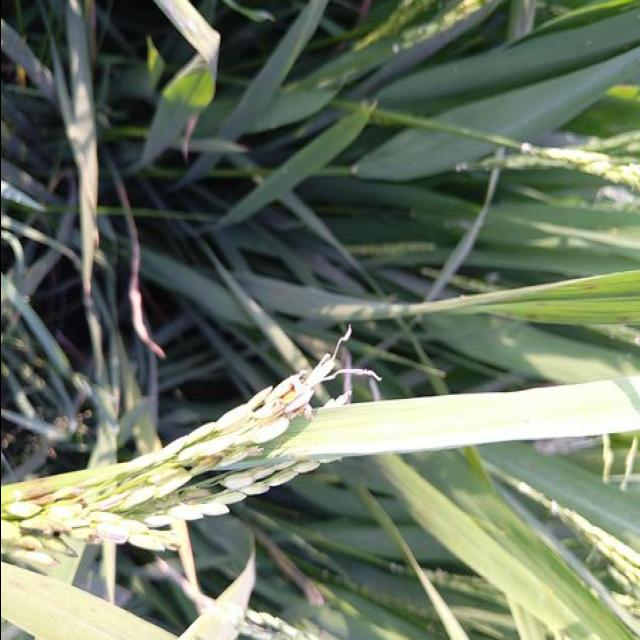Panicle Blight: (216, 324, 350, 443), (0, 517, 73, 579), (78, 511, 177, 550), (180, 453, 224, 475), (17, 493, 72, 505)
